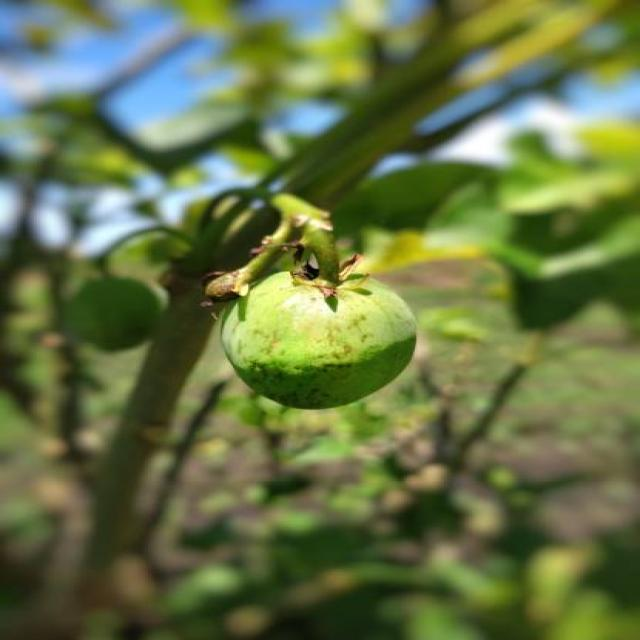Unripe: (224, 259, 415, 408)
